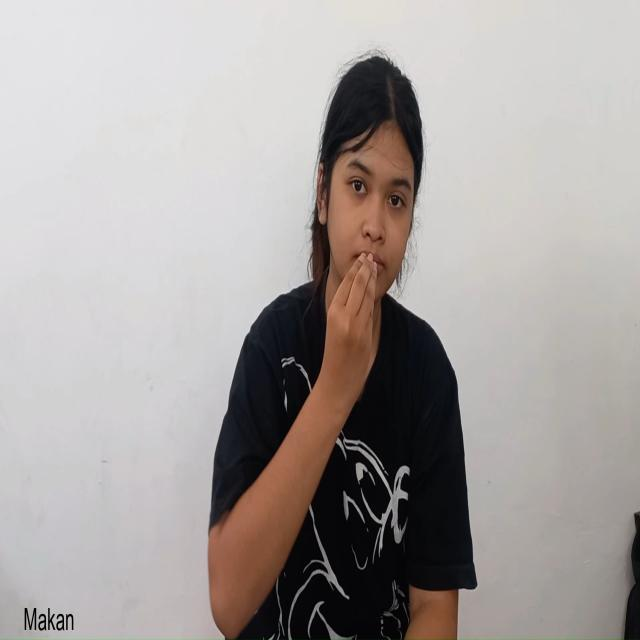Makan -BISINDO-: (316, 56, 423, 428)
